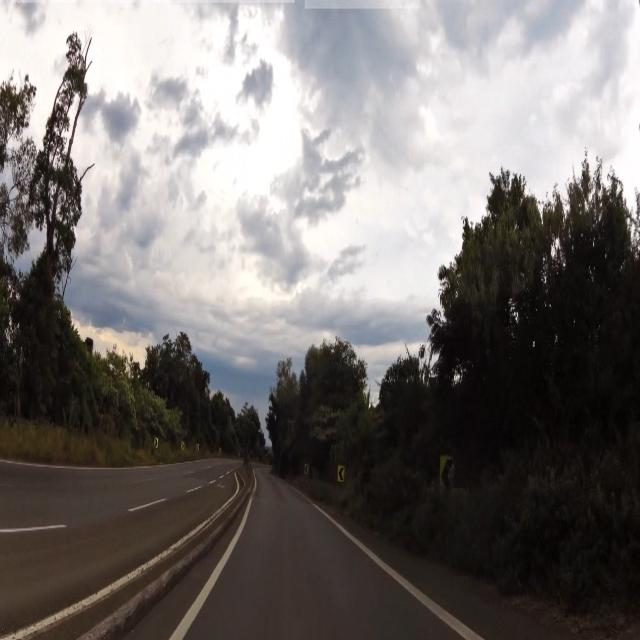Del: (439, 448, 456, 500)
